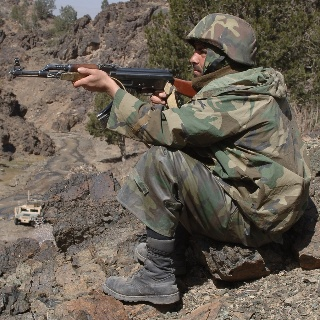rifle: (8, 55, 201, 104)
